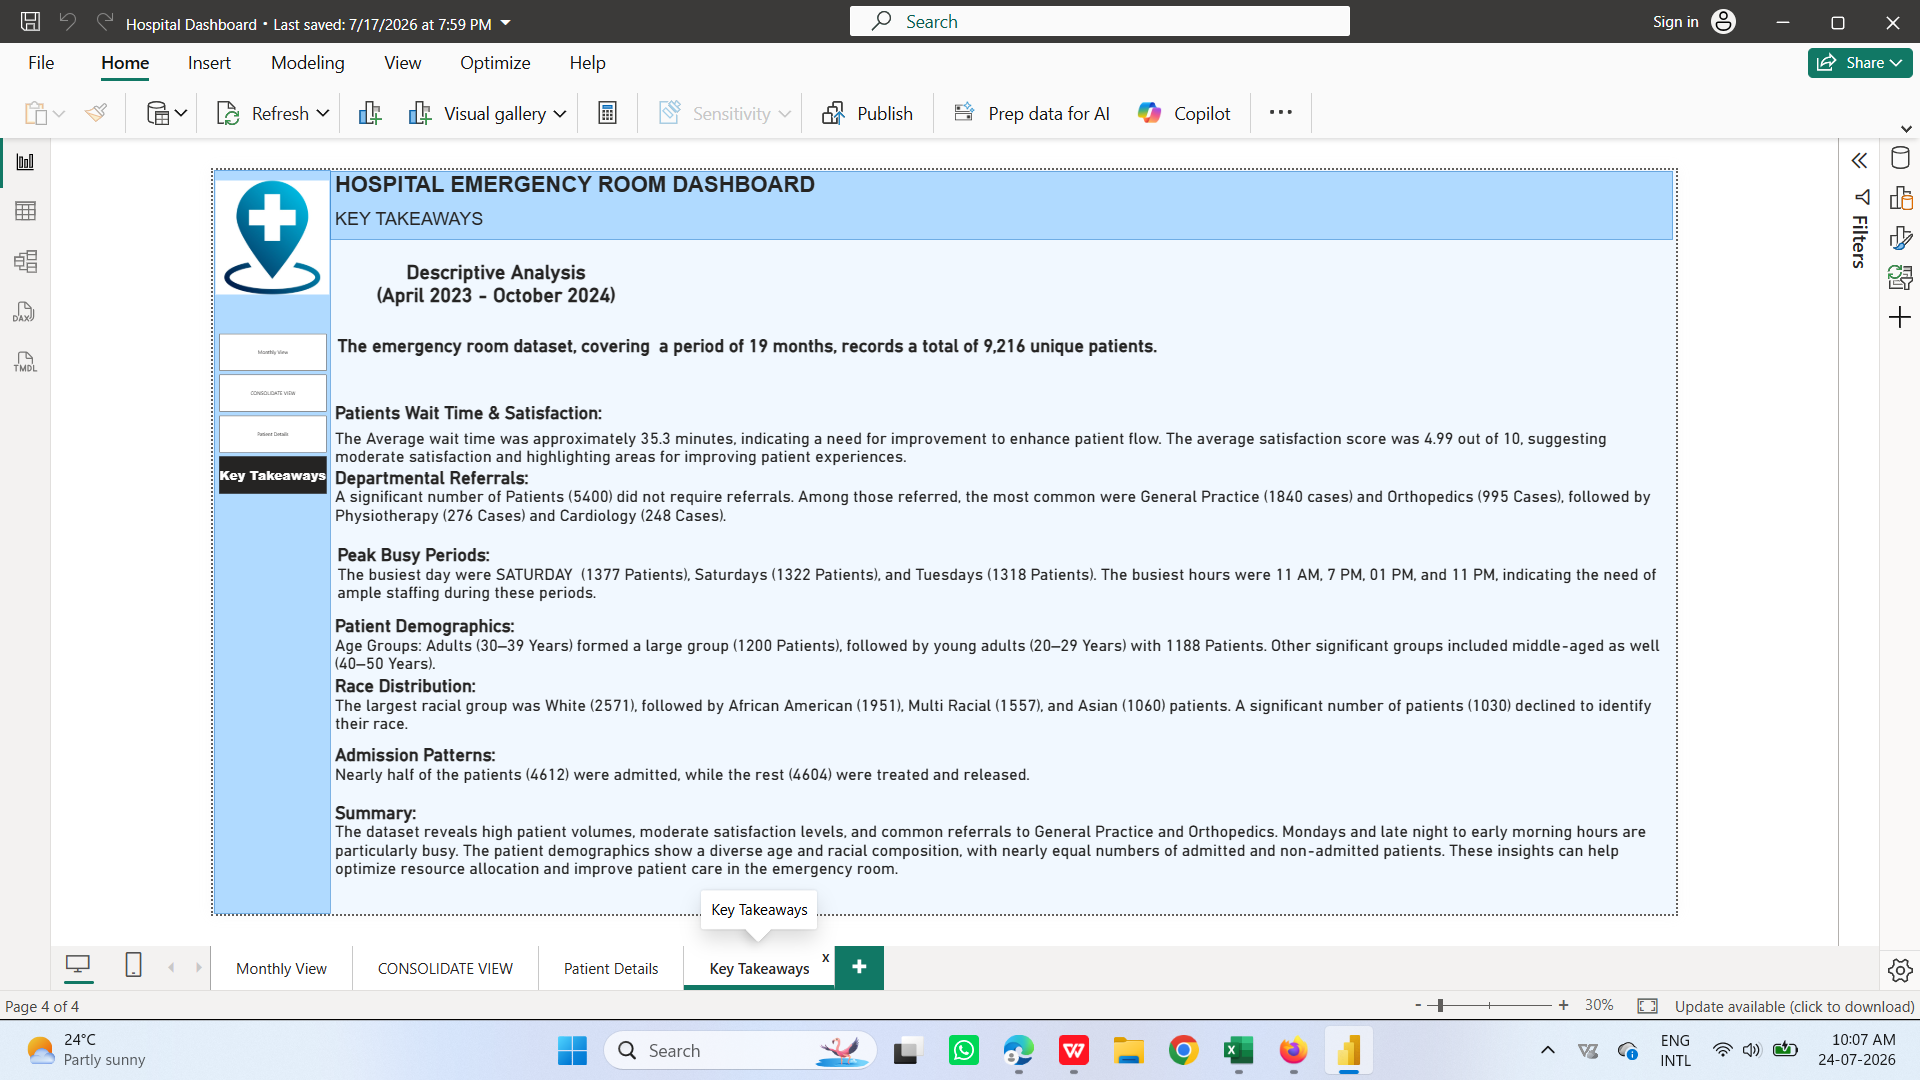

Layout of this report page (visuals, bound fields, positions):
{"tool":"powerbi","page":{"name":"Key Takeaways","canvas":[3900,1984],"ordinal":3},"visuals":[{"type":"shape","box":[313.3,3.3,3580,183.3],"z":0},{"type":"textbox","box":[320,0,1573.3,143.3],"z":1000},{"type":"shape","box":[3.3,0,310,1983.3],"z":2000},{"type":"textbox","box":[320,96.7,640,76.7],"z":3000},{"type":"pageNavigator","box":[16.7,436.7,286.7,426.7],"z":4000},{"type":"textbox","box":[326.7,236.7,856.7,250],"z":5000},{"type":"textbox","box":[326.7,436.7,2826.7,176.7],"z":6000},{"type":"textbox","box":[320,613.3,3580,220],"z":7000},{"type":"textbox","box":[320,786.7,3580,206.7],"z":8000},{"type":"textbox","box":[326.7,993.3,3573.3,170],"z":9000},{"type":"textbox","box":[320,1183.3,3580,196.7],"z":10000},{"type":"textbox","box":[320,1343.3,3580,183.3],"z":11000},{"type":"textbox","box":[320,1526.7,3580,153.3],"z":12000},{"type":"textbox","box":[320,1680,3580,273.3],"z":13000},{"type":"image","box":[6.7,0,303.3,360],"z":13001}]}

Visuals, with their boxes on the page's 3900x1984 design canvas (x1, y1, x2, y2). These are canvas units, not pixel positions in the 1920x1080 screenshot, which may show the page scaled, cropped or inside an application window:
shape: [left=313, top=3, right=3893, bottom=187]
textbox: [left=320, top=0, right=1893, bottom=143]
shape: [left=3, top=0, right=313, bottom=1983]
textbox: [left=320, top=97, right=960, bottom=173]
pageNavigator: [left=17, top=437, right=303, bottom=863]
textbox: [left=327, top=237, right=1183, bottom=487]
textbox: [left=327, top=437, right=3153, bottom=613]
textbox: [left=320, top=613, right=3900, bottom=833]
textbox: [left=320, top=787, right=3900, bottom=993]
textbox: [left=327, top=993, right=3900, bottom=1163]
textbox: [left=320, top=1183, right=3900, bottom=1380]
textbox: [left=320, top=1343, right=3900, bottom=1527]
textbox: [left=320, top=1527, right=3900, bottom=1680]
textbox: [left=320, top=1680, right=3900, bottom=1953]
image: [left=7, top=0, right=310, bottom=360]
